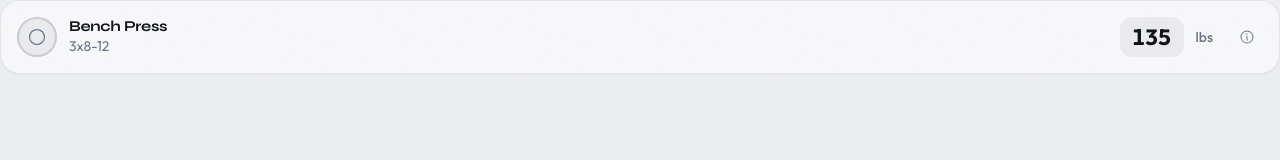
it: ExerciseCard › weight unit toggle › toggles unit from lbs to kg when unit button clicked
The image size is (1280, 160).
Click the button "lbs": (1204, 37) [1190,25,1219,49]
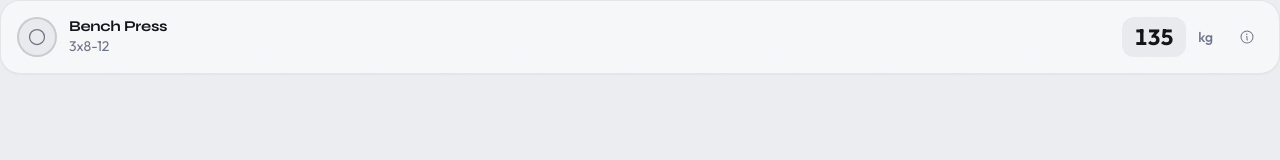
Expected: the button "kg" is shown, [1192,25,1219,49]
